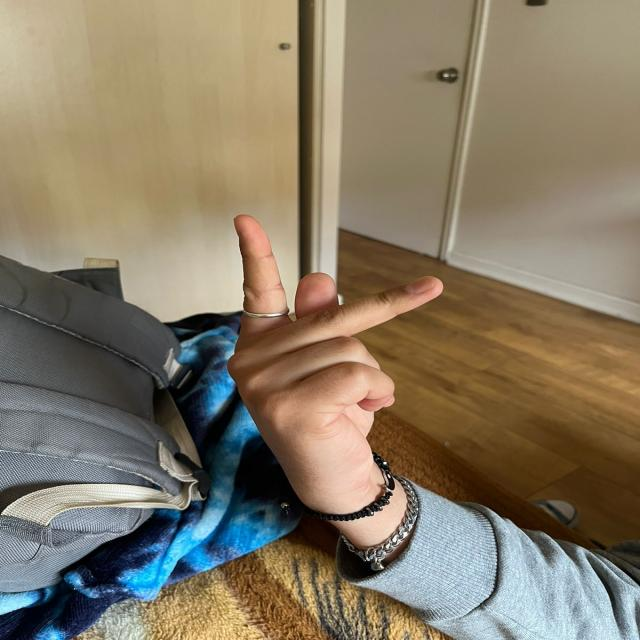K: (218, 203, 451, 498)
